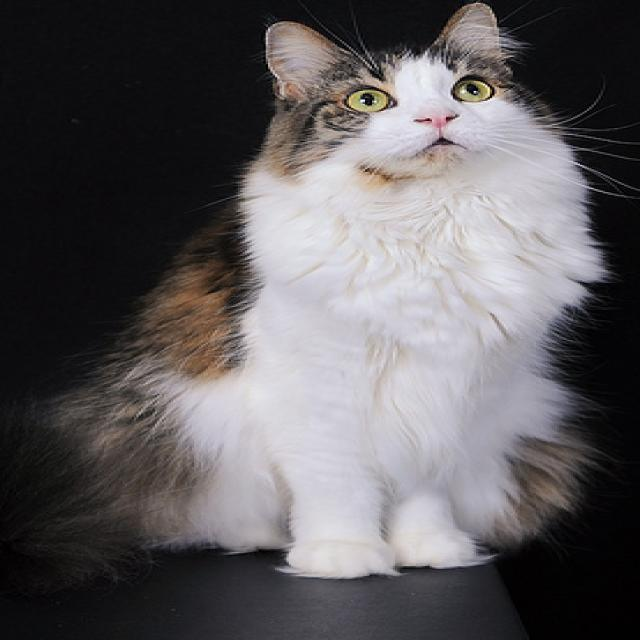Maine Coon: (0, 0, 617, 589)
